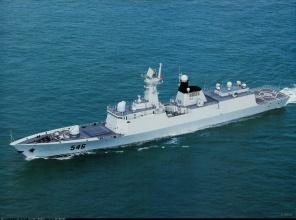warship: (11, 61, 290, 162)
